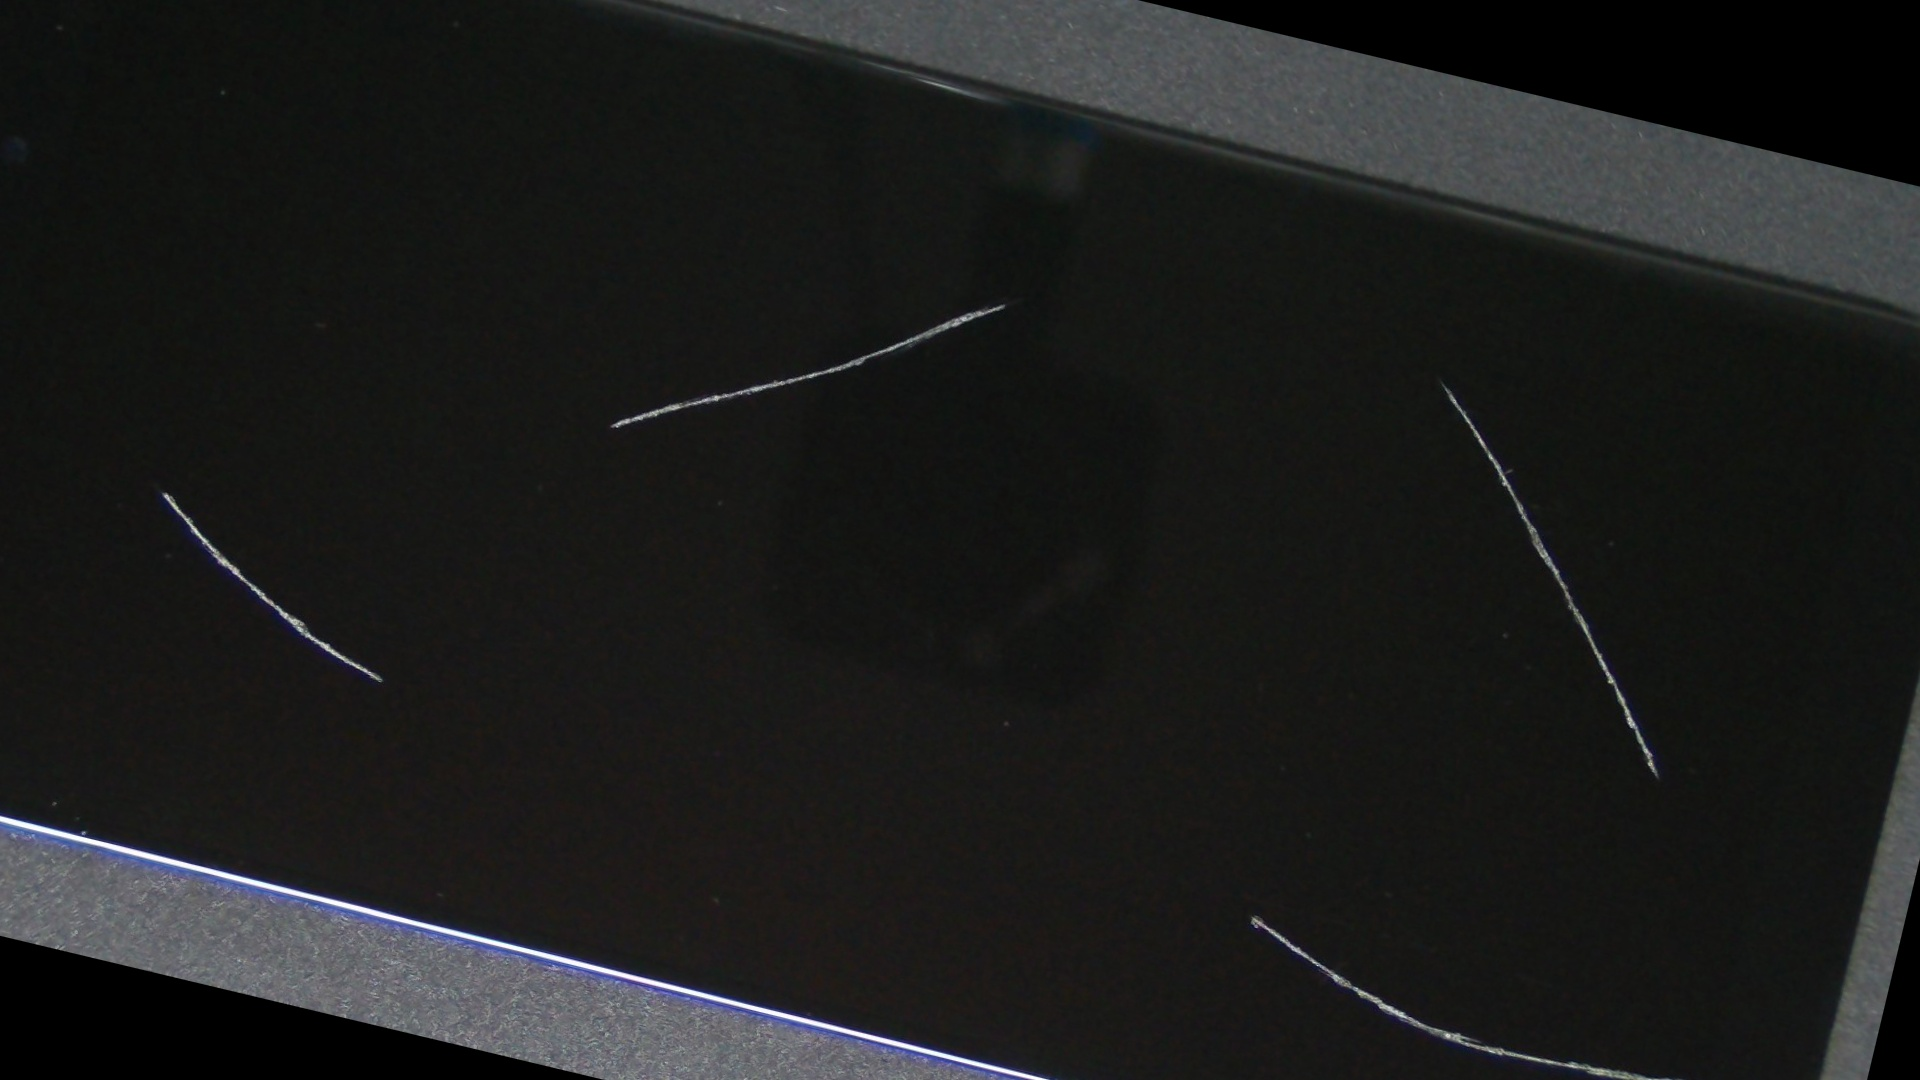oil: (467, 324, 1920, 1080), (663, 57, 1920, 659), (440, 18, 1568, 588), (0, 112, 396, 869)
